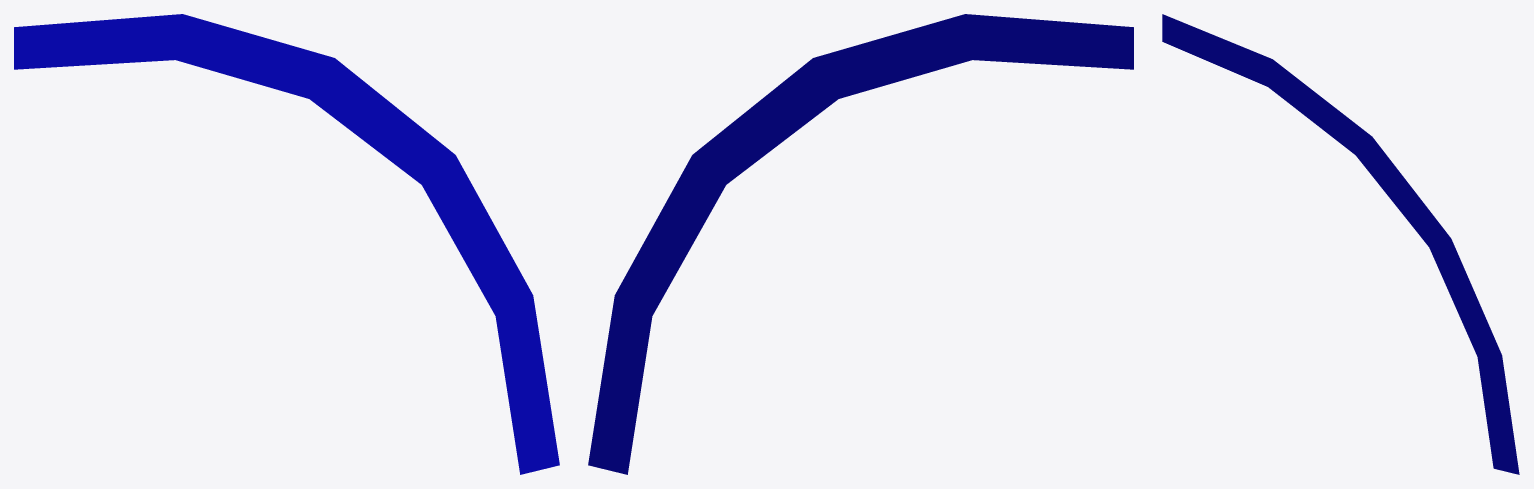
File: Z_Cring.fbx
3 views of the same model, side by side, from view 1: azimuth 30°, elevation 25°; view 2: azimuth 150°, elevation 25°; view 3: azimuth 330°, elevation 25° (orthographic). The views are drawn at different scales.
Visible parts, largest first — view 1: pCylinder1; view 2: pCylinder1; view 3: pCylinder1.
Part boxes in pixels (x1,y1,x2,y2): pCylinder1: (14,14,559,474); pCylinder1: (588,14,1133,474); pCylinder1: (1162,14,1519,474).
Bounding box in the file's own units: 1 × 1 × 3.27e-15.
